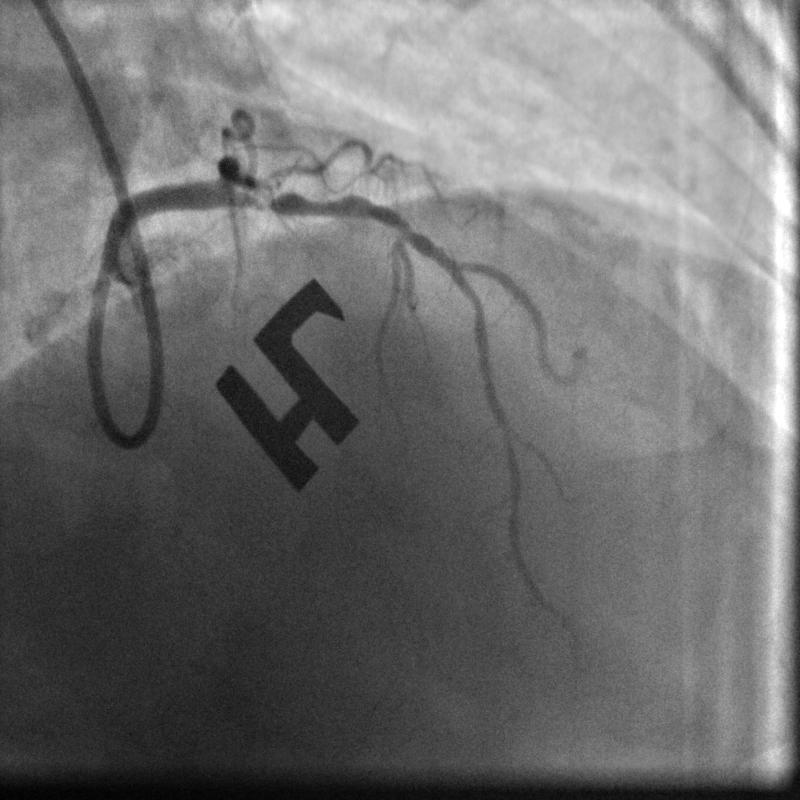Stenosis: (250, 183, 354, 219)
